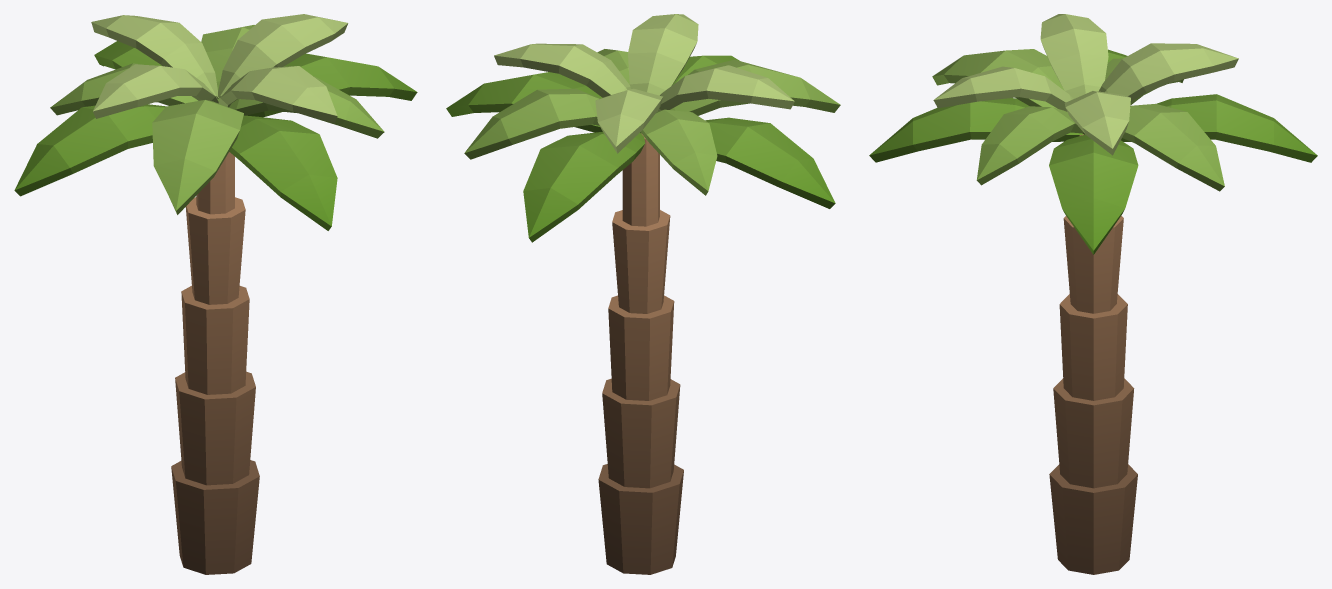
File: palm-tree-large-2.glb
3 renders of one model, left to right at view 1: azimuth 30°, elevation 25°; view 2: azimuth 150°, elevation 25°; view 3: azimuth 270°, elevation 25°, orthographic. The views are drawn at different scales.
Parts seen in each view (by area): view 1: palm tree large 2; view 2: palm tree large 2; view 3: palm tree large 2.
Boxes of the visible parts, x1,y1,x2,y2 form: palm tree large 2: (14, 14, 417, 574); palm tree large 2: (446, 14, 840, 574); palm tree large 2: (869, 14, 1317, 574).
Size of the model in its own units: 5.25 by 6.44 by 5.24.
1 material, 1 textured.
